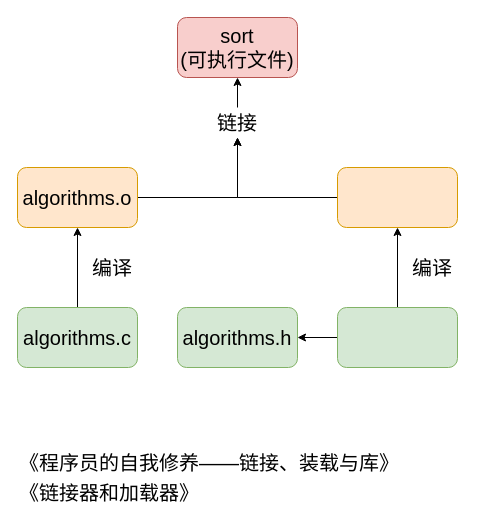
Image size: 485x525. Some labels were removed from this diagram. Each missing label, with the centre of its shape:
"sort.c" belongs at (397,337).
"sort.o" belongs at (397,197).
